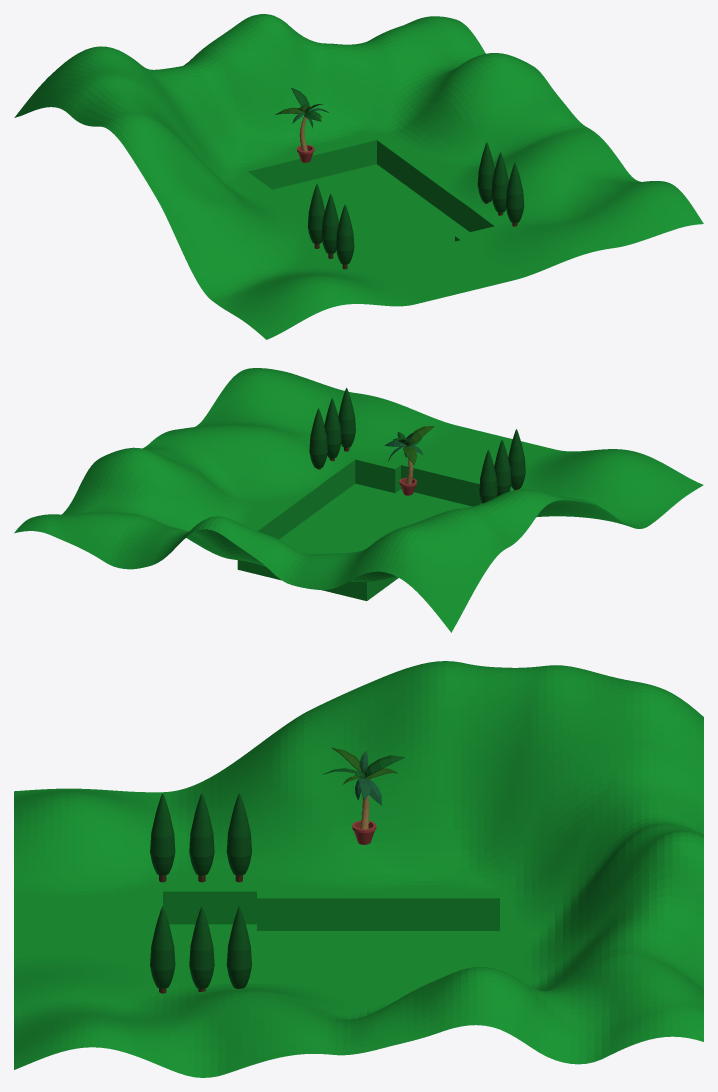
File: vegetación.fbx
3 renders of one model, top to bottom at view 1: azimuth 30°, elevation 25°; view 2: azimuth 150°, elevation 25°; view 3: azimuth 270°, elevation 25°, orthographic. The views are drawn at different scales.
Visible parts, largest first — view 1: Plane, Palmera, ciprés.002, ciprés.005, ciprés.001, ciprés.004, ciprés, ciprés.003; view 2: Plane, Palmera, ciprés.003, ciprés.005, ciprés.002, ciprés.004, ciprés, ciprés.001; view 3: Plane, Palmera, ciprés.001, ciprés, ciprés.002, ciprés.005, ciprés.004, ciprés.003.
Boxes of the visible parts, x1=… form: Plane: x1=14, y1=14, x2=703, y2=339; Palmera: x1=275, y1=87, x2=328, y2=162; ciprés.002: x1=336, y1=204, x2=354, y2=269; ciprés.005: x1=505, y1=163, x2=524, y2=226; ciprés.001: x1=321, y1=194, x2=338, y2=258; ciprés.004: x1=491, y1=152, x2=508, y2=215; ciprés: x1=307, y1=184, x2=324, y2=248; ciprés.003: x1=477, y1=142, x2=494, y2=203; Plane: x1=14, y1=368, x2=703, y2=632; Palmera: x1=384, y1=426, x2=434, y2=495; ciprés.003: x1=309, y1=408, x2=327, y2=469; ciprés.005: x1=338, y1=387, x2=355, y2=451; ciprés.002: x1=508, y1=429, x2=525, y2=490; ciprés.004: x1=324, y1=398, x2=341, y2=461; ciprés: x1=479, y1=449, x2=497, y2=503; ciprés.001: x1=494, y1=439, x2=511, y2=496; Plane: x1=14, y1=661, x2=703, y2=1077; Palmera: x1=323, y1=747, x2=404, y2=844; ciprés.001: x1=189, y1=793, x2=214, y2=882; ciprés: x1=226, y1=793, x2=251, y2=882; ciprés.002: x1=150, y1=793, x2=175, y2=882; ciprés.005: x1=150, y1=906, x2=175, y2=993; ciprés.004: x1=189, y1=906, x2=214, y2=991; ciprés.003: x1=226, y1=906, x2=251, y2=988.
Bounding box in the file's own units: 1592 × 462 × 1592.
